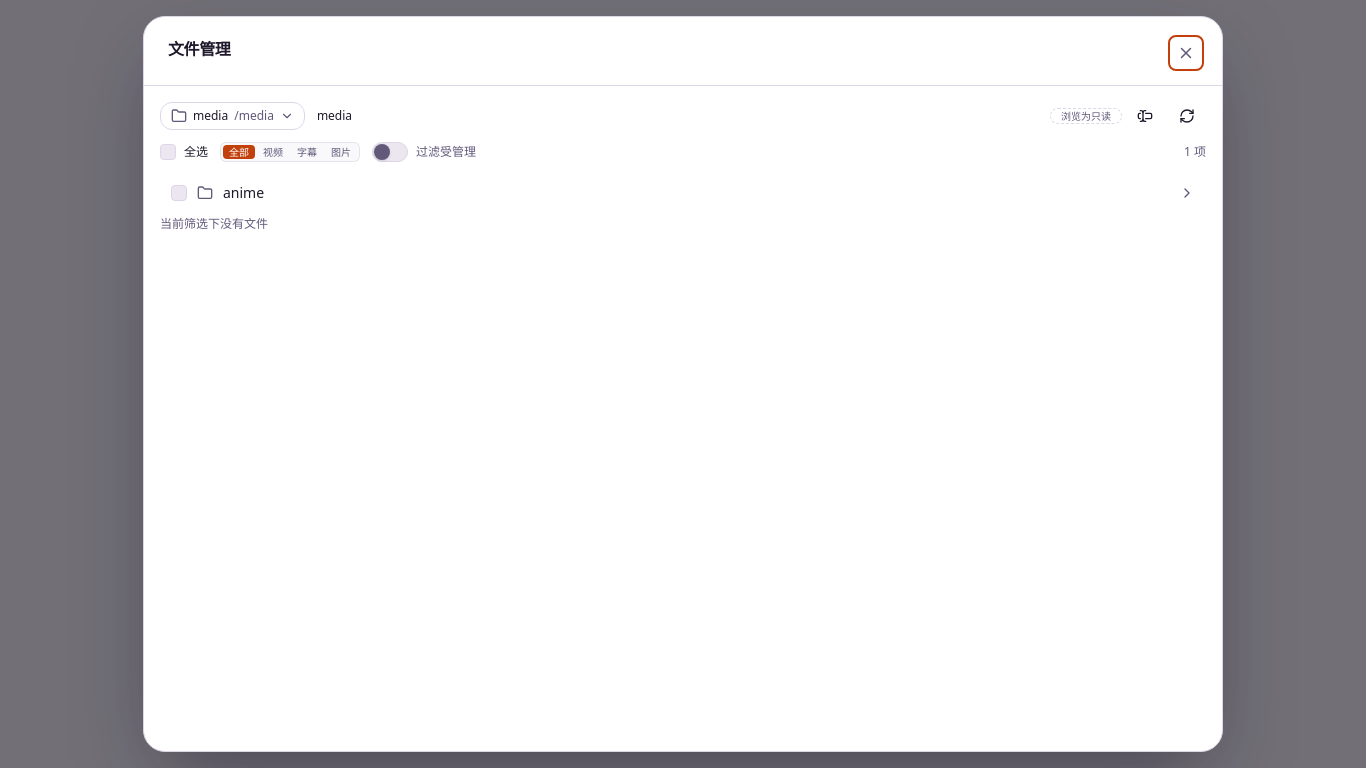
Test: FileManagerDialog › goes to an absolute path from the path bar and refuses a relative one
The image size is (1366, 768).
Expected: the text "anime" is shown, [223,183,264,202]
Click the button named "输入路径": (1145,116) [1126,102,1164,130]
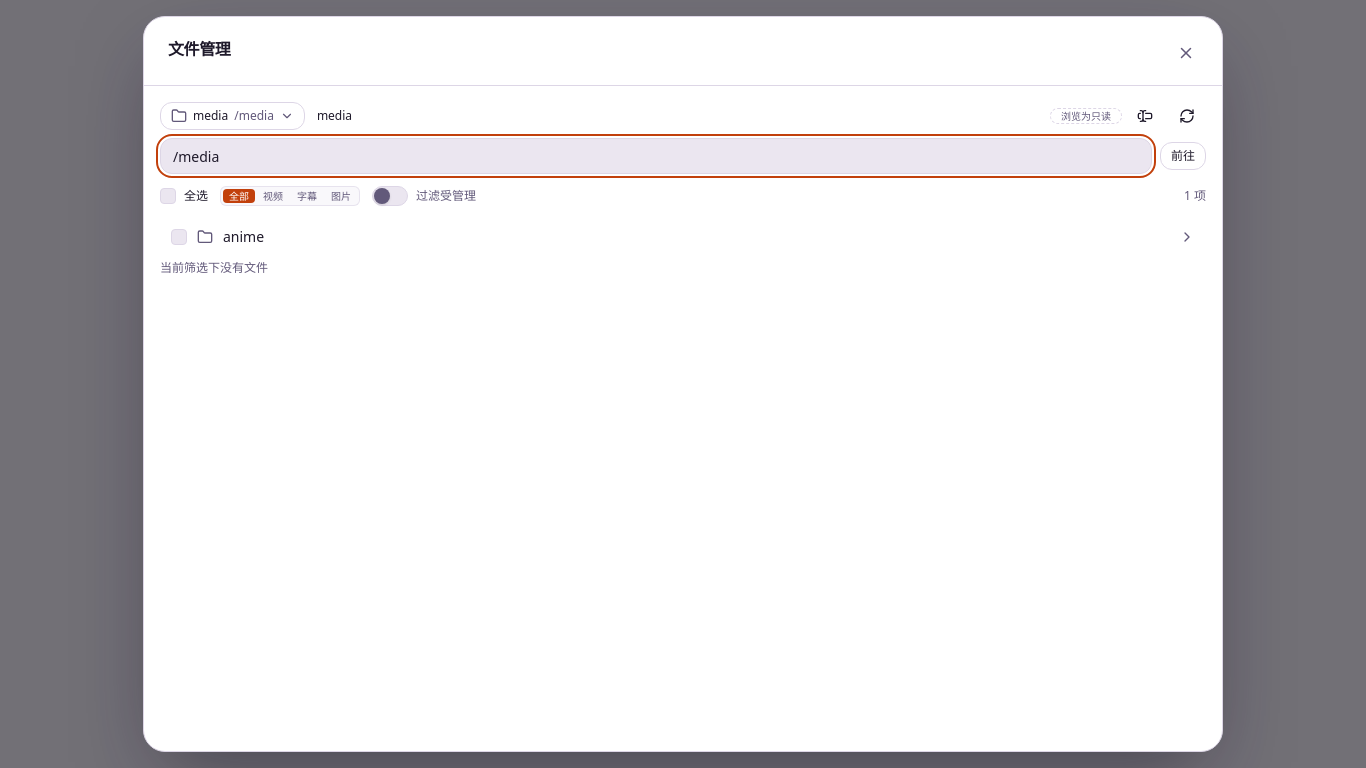
Replace the text in the field named "路径" with "/media//anime/": (656,156) [160,138,1152,174]
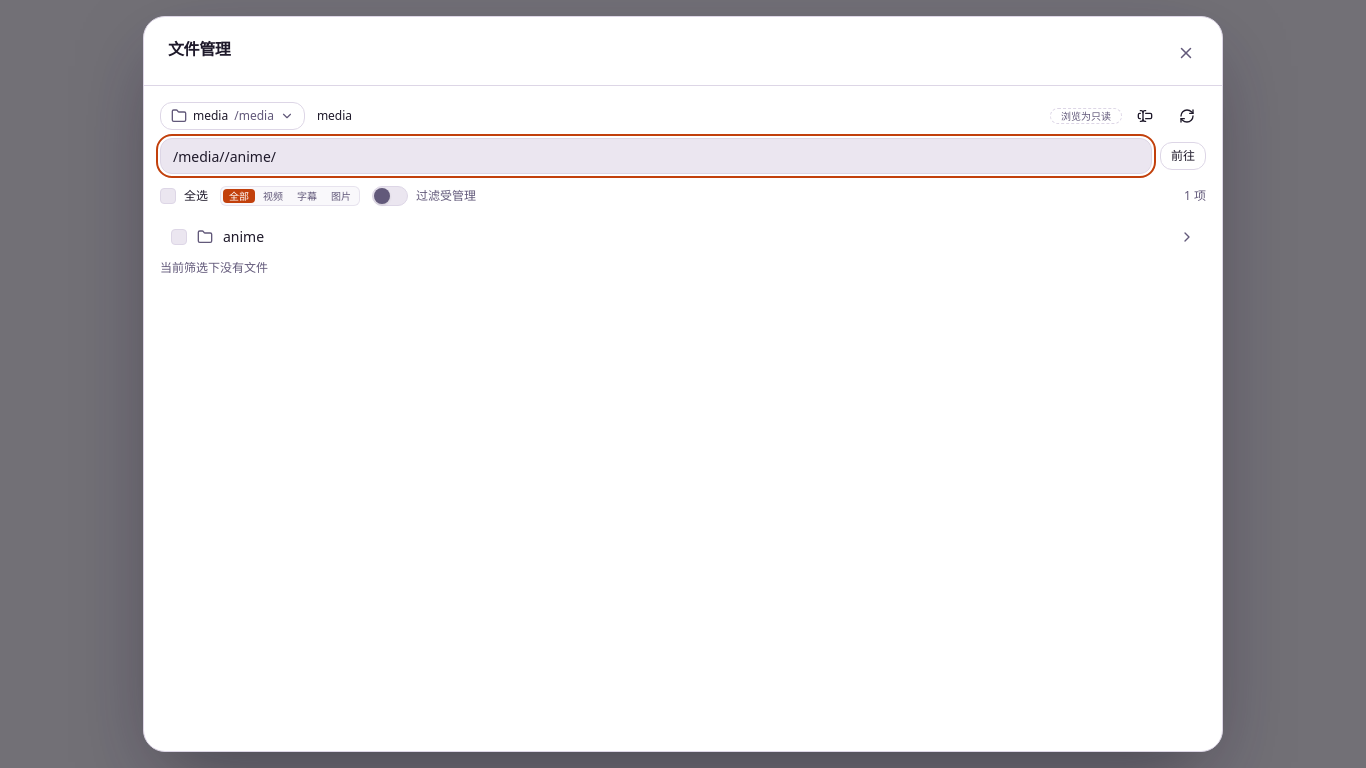
Click the button "前往": (1183,156) [1160,142,1206,170]
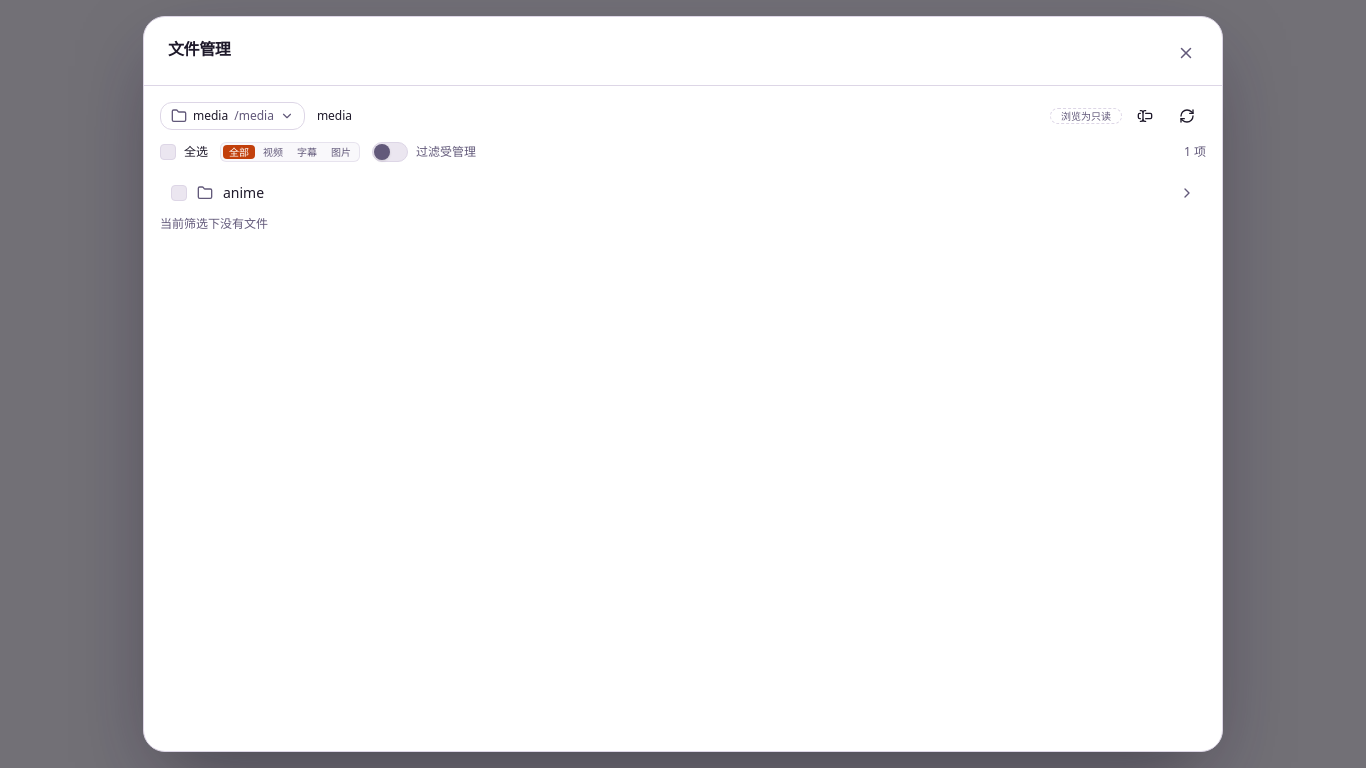
Click the button named "输入路径": (1145,116) [1126,102,1164,130]
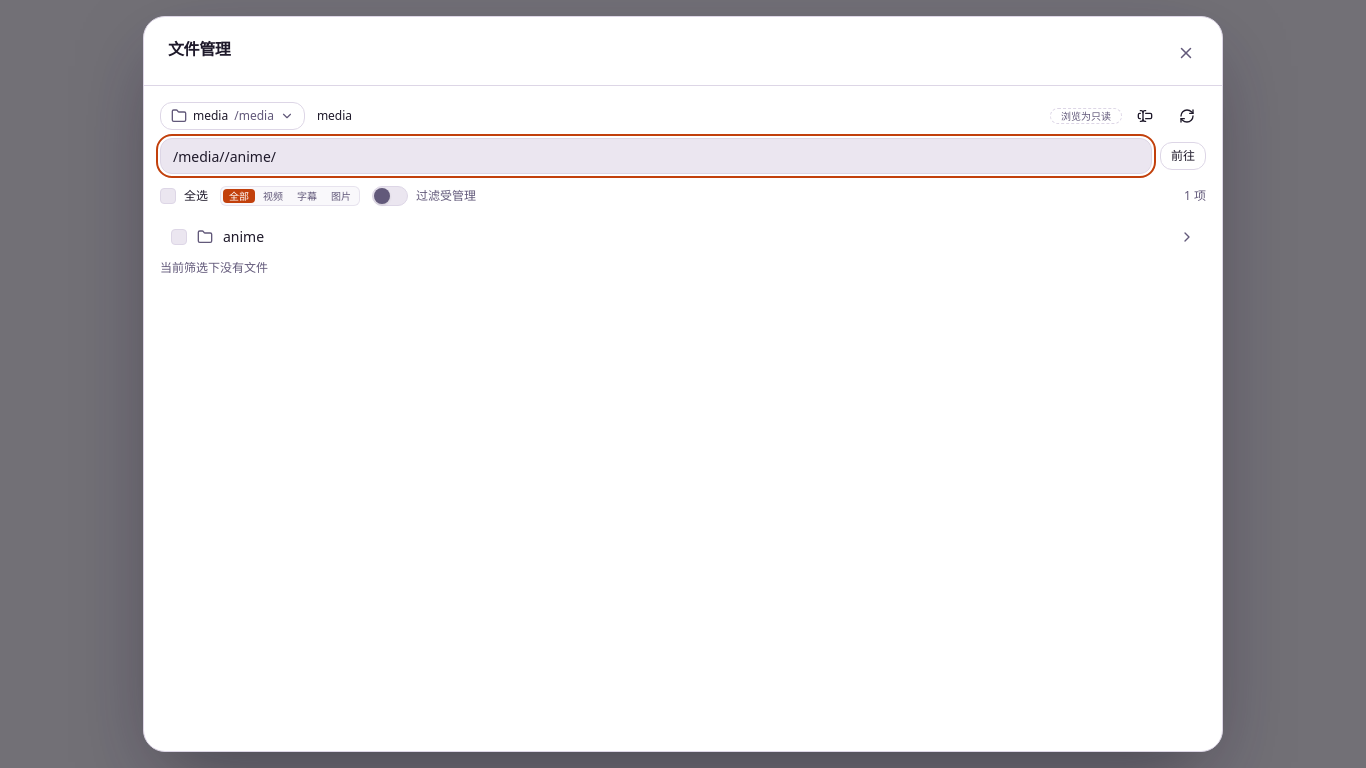
Replace the text in the field named "路径" with "media/anime": (656,156) [160,138,1152,174]
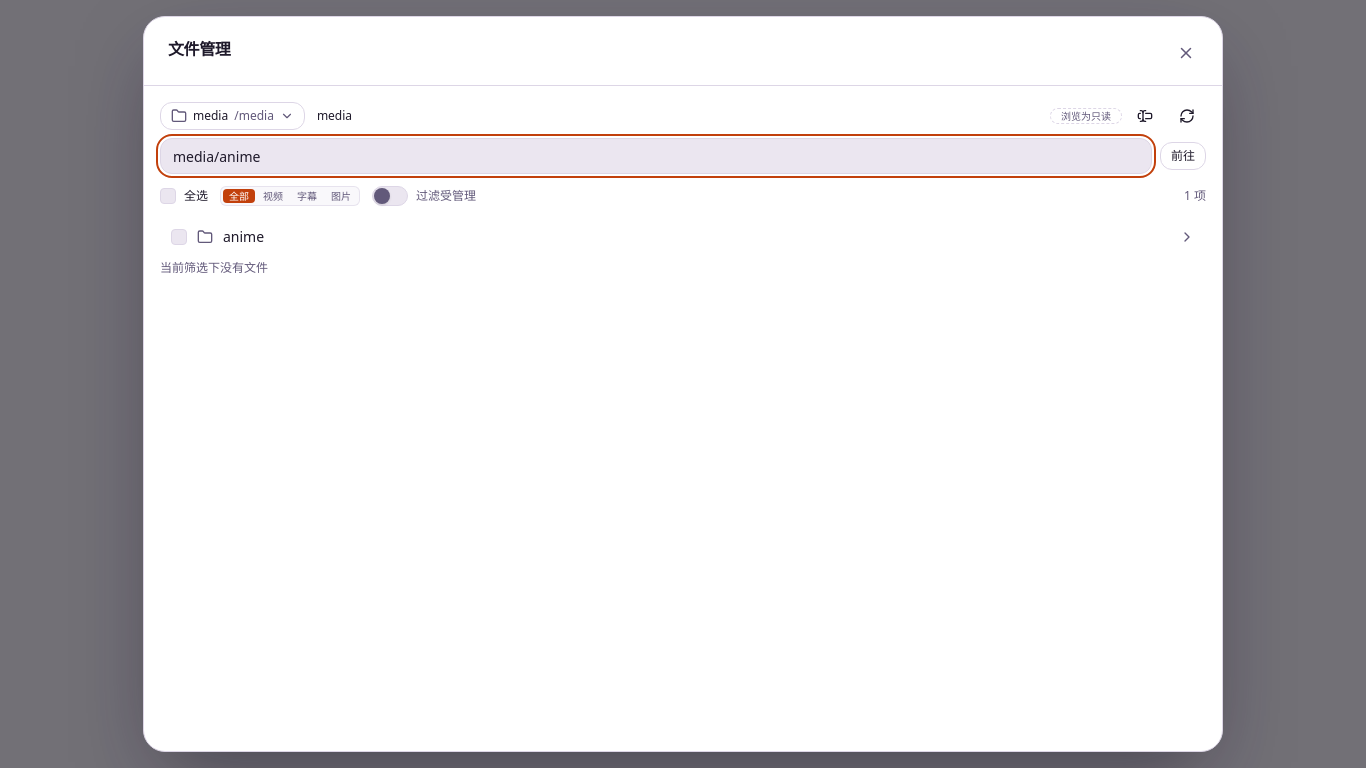
Click the button "前往": (1183,156) [1160,142,1206,170]
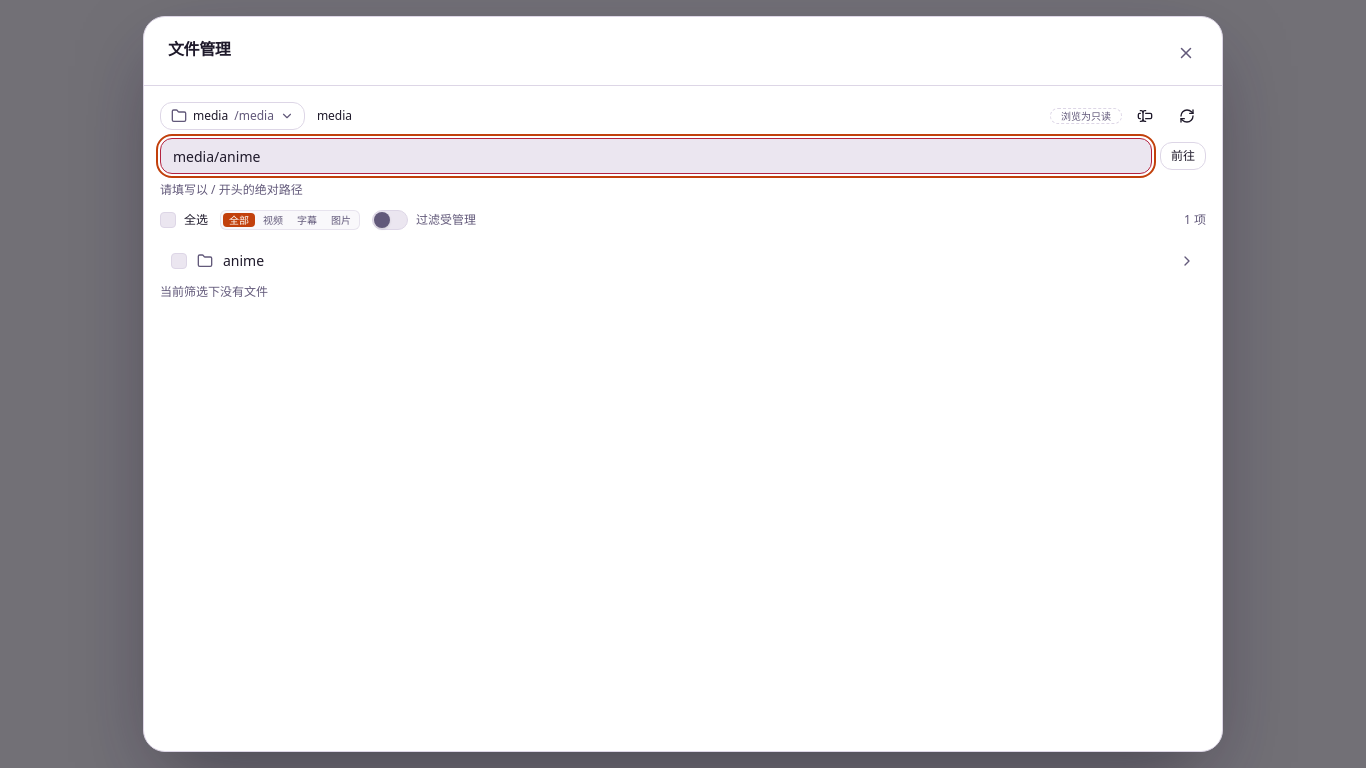
Expected: the text "请填写以 / 开头的绝对路径" is shown, [160,181,303,198]
